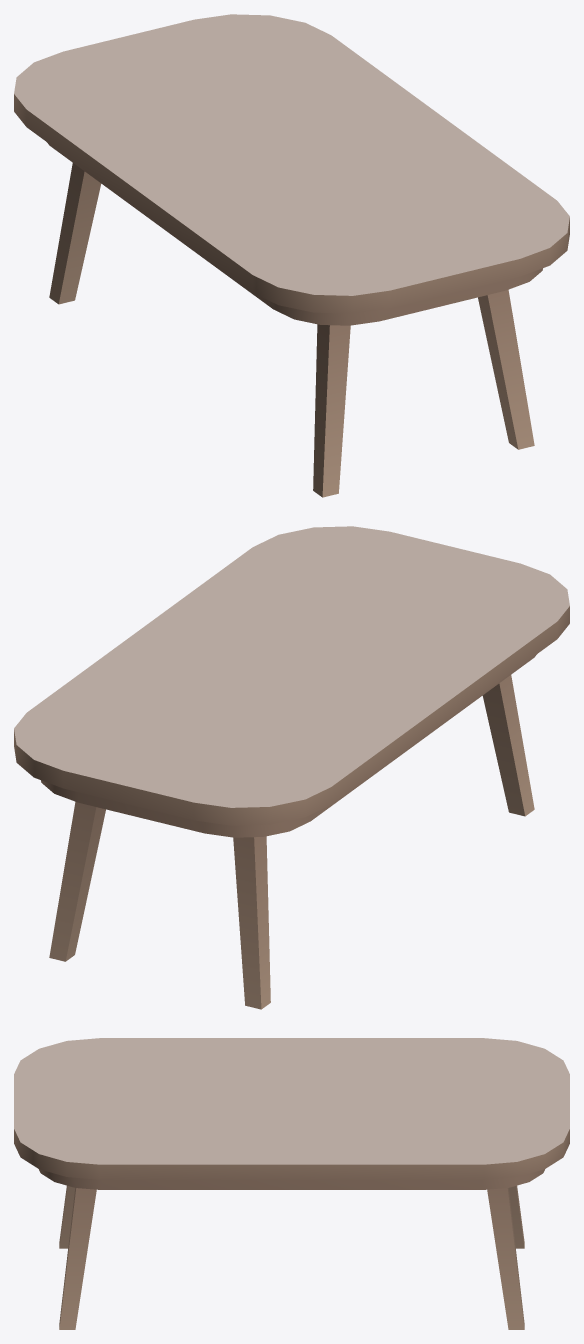
The model's file is table-kitchen-rounded-narrow-long.glb.
The picture shows the model from 3 angles, top to bottom: view 1: azimuth 30°, elevation 25°; view 2: azimuth 150°, elevation 25°; view 3: azimuth 270°, elevation 25°; orthographic projection. The views are drawn at different scales.
Parts seen in each view (by area): view 1: table-kitchen-rounded-narrow-long; view 2: table-kitchen-rounded-narrow-long; view 3: table-kitchen-rounded-narrow-long.
Part boxes in pixels (x1=…): table-kitchen-rounded-narrow-long: x1=14, y1=14, x2=569, y2=497; table-kitchen-rounded-narrow-long: x1=14, y1=526, x2=569, y2=1009; table-kitchen-rounded-narrow-long: x1=14, y1=1038, x2=569, y2=1329.
Size of the model in its own units: 0.7 by 0.4756 by 1.3.
